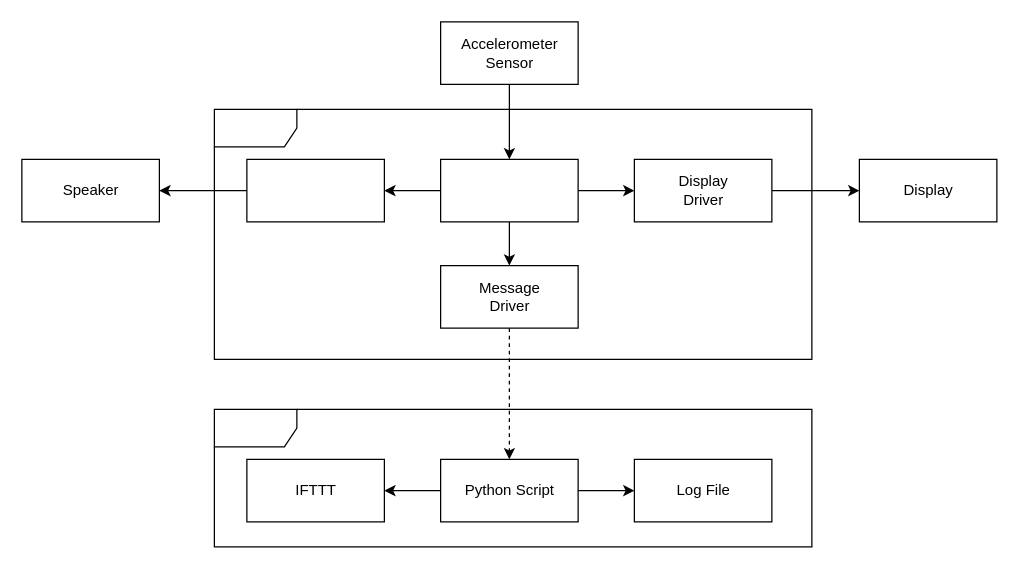
Image size: 1019x569. Some labels were removed from this diagram. The box of each missing label's shape, as (x1, y1, x2, y2) in pixels:
Movement Detector: (439, 158, 578, 222)
PC: (213, 408, 812, 547)
Security System: (213, 108, 812, 359)
Speaker Driver: (246, 158, 384, 222)
